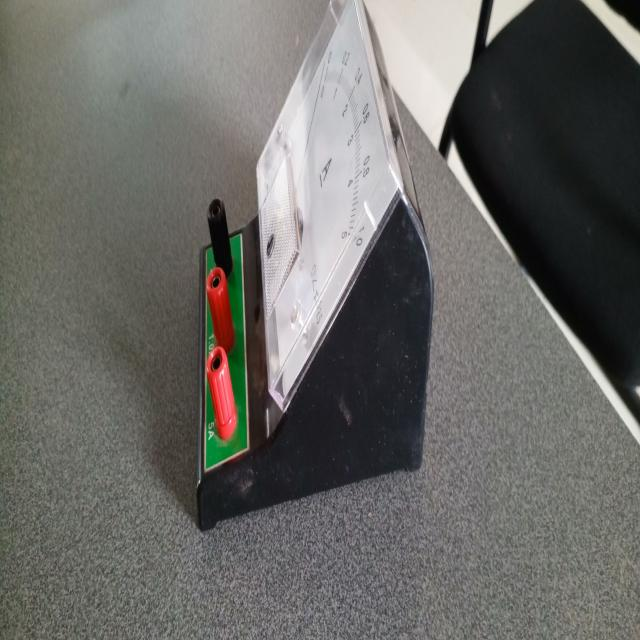Ammeter Analog: (175, 0, 441, 534)
